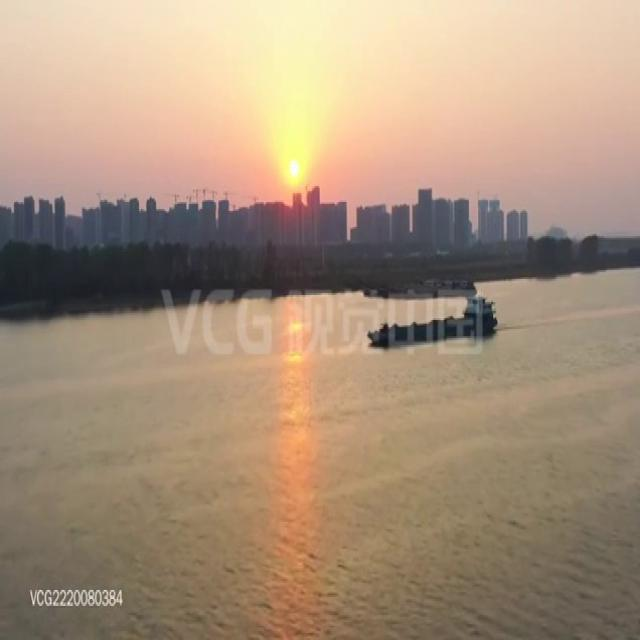cargoship: (367, 297, 497, 356)
